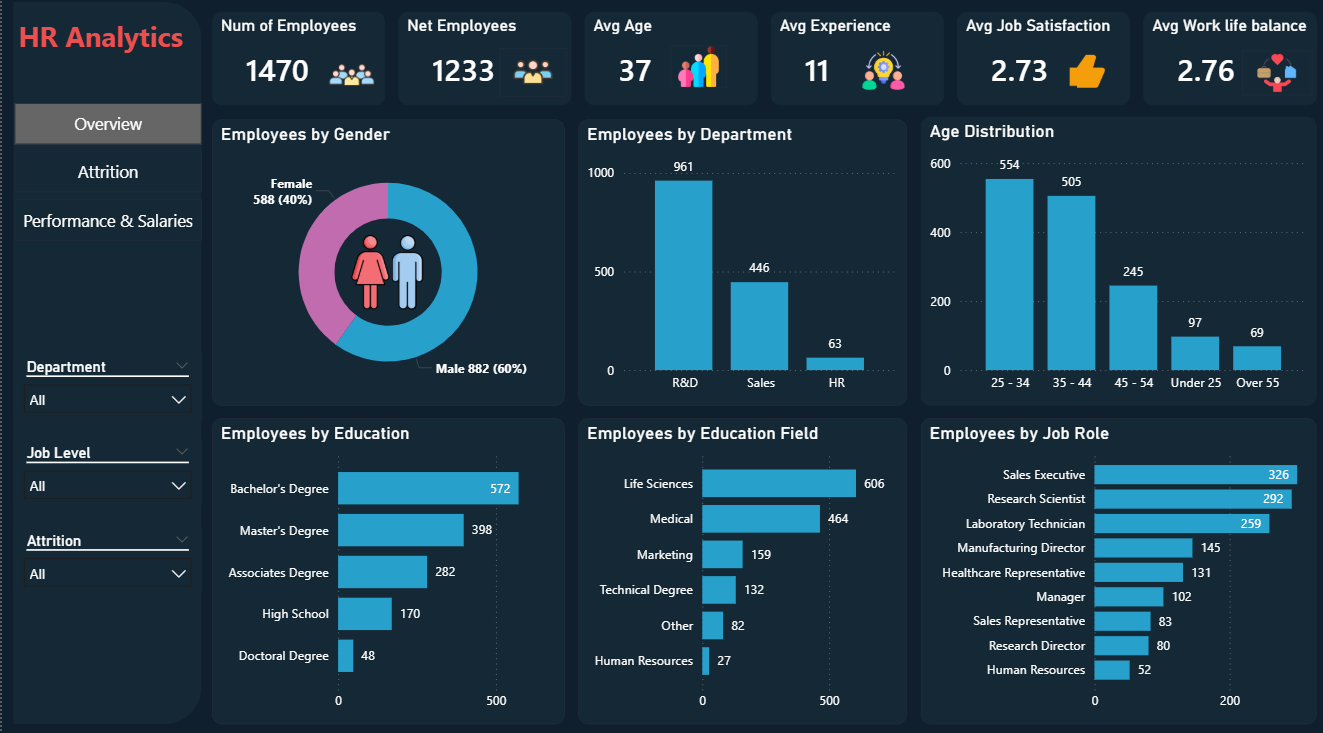

The dashboard page shown, as its layout file describes it:
{"tool":"powerbi","page":{"name":"Overview","canvas":[1280,720],"ordinal":0},"visuals":[{"type":"cardVisual","title":"Num of Employees","fields":{"Data":["_Measures.Total Employees"]},"box":[202.8,22.9,167.6,90],"z":0},{"type":"cardVisual","title":"Net Employees","fields":{"Data":["_Measures.Net Employees"]},"box":[382.7,22.9,167.6,90],"z":1000},{"type":"donutChart","title":"Employees by Gender","fields":{"Category":["HR.Gender"],"Y":["_Measures.Total Employees"]},"box":[202.8,126.8,340.4,276.5],"z":2000},{"type":"cardVisual","title":"Avg Age","fields":{"Data":["_Measures.Avg Age"]},"box":[562.6,22.9,167.6,90],"z":3000},{"type":"columnChart","title":"Employees by Department","fields":{"Category":["HR.Department"],"Y":["_Measures.Total Employees"]},"box":[556.5,126.8,317.5,276.5],"z":4000},{"type":"cardVisual","title":"Avg Experience","fields":{"Data":["_Measures.Avg Experience"]},"box":[742.5,22.9,167.6,90],"z":5000},{"type":"barChart","title":"Employees by Education","fields":{"Category":["HR.Education"],"Y":["_Measures.Total Employees"]},"box":[202.8,415.3,340.4,295.8],"z":6000},{"type":"cardVisual","title":"Avg Job Satisfaction","fields":{"Data":["_Measures.Avg Job Satisfaction"]},"box":[922.3,22.9,167.6,90],"z":7000},{"type":"columnChart","title":"Age Distribution","fields":{"Y":["_Measures.Total Employees"],"Category":["HR.CF_age band"]},"box":[887.6,124.7,382.7,278.9],"z":8000},{"type":"cardVisual","title":"Avg Work life balance","fields":{"Data":["_Measures.Avg WLB"]},"box":[1102.2,22.9,167.8,90.5],"z":9000},{"type":"shape","box":[10.9,13.3,182,697.8],"z":10000},{"type":"clusteredBarChart","title":"Employees by Job Role","fields":{"Category":["HR.Job Role"],"Y":["_Measures.Total Employees"]},"box":[887.3,415.3,382.7,295.8],"z":11000},{"type":"textbox","box":[10.9,22.9,171.4,61.6],"z":12000},{"type":"clusteredBarChart","title":"Employees by Education Field","fields":{"Category":["HR.Education Field"],"Y":["_Measures.Total Employees"]},"box":[556.5,415.3,317.5,295.8],"z":13000},{"type":"actionButton","box":[12.1,111.1,181.1,39.8],"z":14000},{"type":"actionButton","box":[12.1,156.9,181.1,39.8],"z":15000},{"type":"actionButton","box":[12.1,204,181.1,39.8],"z":16000},{"type":"image","box":[480.5,57.9,65.2,47.1],"z":17000},{"type":"image","box":[311.5,56.7,53.1,55.5],"z":18000},{"type":"image","box":[645.9,55.5,54.3,41],"z":19000},{"type":"image","box":[812.5,59.2,77.3,41],"z":20000},{"type":"image","box":[335.6,228.2,72.4,93],"z":21000},{"type":"image","box":[1026.2,59.2,44.7,42.3],"z":22000},{"type":"slicer","fields":{"Values":["HR.Department"]},"box":[10.9,352.5,182.3,64],"z":23000},{"type":"slicer","fields":{"Values":["HR.Job Level"]},"box":[10.9,435.8,182.3,64],"z":24000},{"type":"slicer","fields":{"Values":["HR.Attrition"]},"box":[10.9,520.3,182.3,64],"z":25000},{"type":"image","box":[1197.6,60.4,67.6,43.5],"z":26000}]}

Visuals, with their boxes in screenshot pixels (x1, y1, x2, y2), scaled from the page's 1280x720 canvas onto the 1323x733 screenshot:
"Num of Employees" cardVisual: select_region(210, 23, 383, 115)
"Net Employees" cardVisual: select_region(396, 23, 569, 115)
"Employees by Gender" donutChart: select_region(210, 129, 561, 411)
"Avg Age" cardVisual: select_region(581, 23, 755, 115)
"Employees by Department" columnChart: select_region(575, 129, 903, 411)
"Avg Experience" cardVisual: select_region(767, 23, 941, 115)
"Employees by Education" barChart: select_region(210, 423, 561, 724)
"Avg Job Satisfaction" cardVisual: select_region(953, 23, 1127, 115)
"Age Distribution" columnChart: select_region(917, 127, 1313, 411)
"Avg Work life balance" cardVisual: select_region(1139, 23, 1313, 115)
shape: select_region(11, 14, 199, 724)
"Employees by Job Role" clusteredBarChart: select_region(917, 423, 1313, 724)
textbox: select_region(11, 23, 188, 86)
"Employees by Education Field" clusteredBarChart: select_region(575, 423, 903, 724)
actionButton: select_region(13, 113, 200, 154)
actionButton: select_region(13, 160, 200, 200)
actionButton: select_region(13, 208, 200, 248)
image: select_region(497, 59, 564, 107)
image: select_region(322, 58, 377, 114)
image: select_region(668, 57, 724, 98)
image: select_region(840, 60, 920, 102)
image: select_region(347, 232, 422, 327)
image: select_region(1061, 60, 1107, 103)
slicer - HR.Department: select_region(11, 359, 200, 424)
slicer - HR.Job Level: select_region(11, 444, 200, 509)
slicer - HR.Attrition: select_region(11, 530, 200, 595)
image: select_region(1238, 61, 1308, 106)
